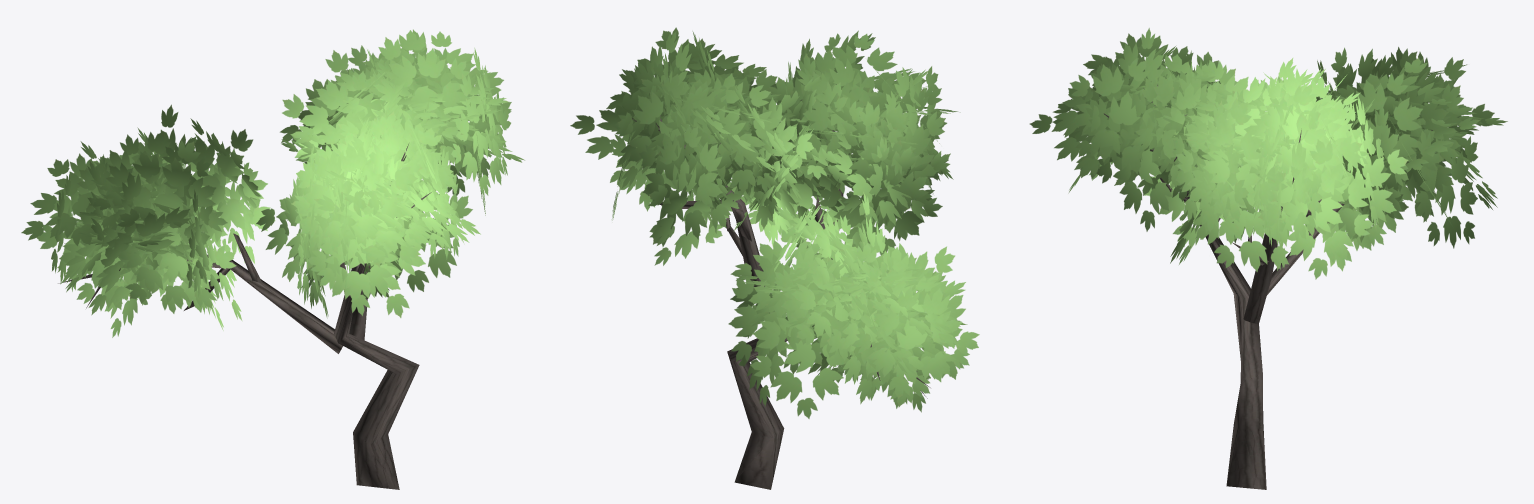
The model's file is street-tree-9-lo.glb.
The picture shows the model from 3 angles, left to right: view 1: azimuth 30°, elevation 25°; view 2: azimuth 150°, elevation 25°; view 3: azimuth 270°, elevation 25°; orthographic projection. The views are drawn at different scales.
Visible parts, largest first — view 1: MapleTree_2; view 2: MapleTree_2; view 3: MapleTree_2.
Part boxes in pixels (x1=…): MapleTree_2: x1=21, y1=29, x2=524, y2=489; MapleTree_2: x1=570, y1=27, x2=979, y2=489; MapleTree_2: x1=1029, y1=28, x2=1507, y2=489.
Size of the model in its own units: 7.41 by 7.29 by 7.15.
2 materials, 2 textured.
